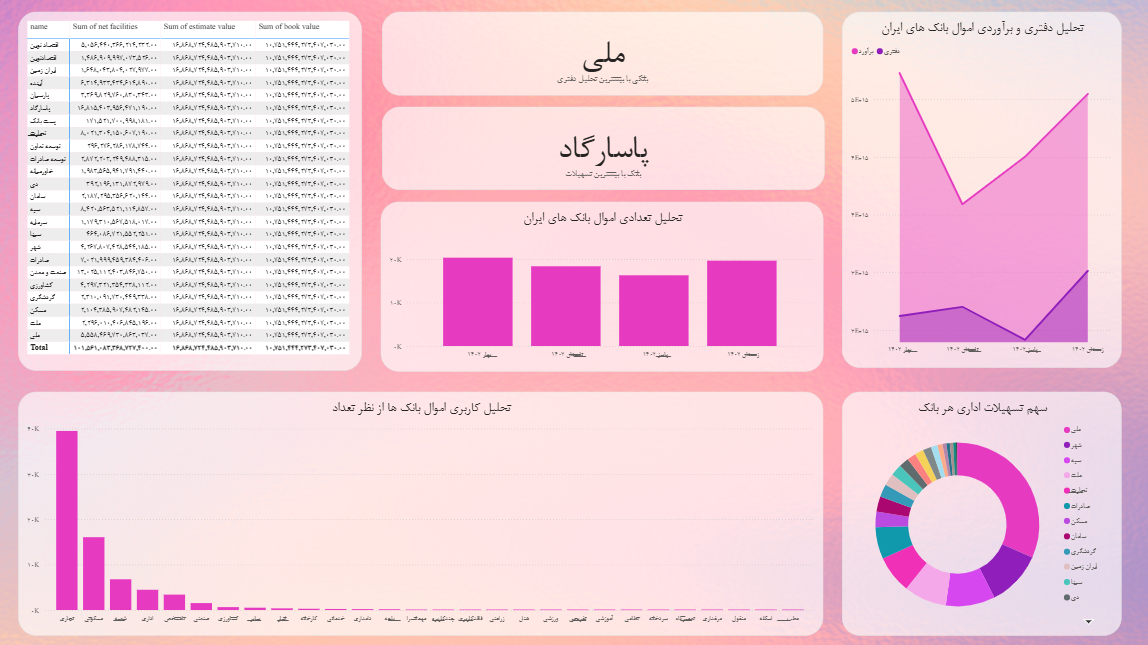

Layout of this report page (visuals, bound fields, positions):
{"tool":"powerbi","page":{"name":"comparison","canvas":[1920,1080],"ordinal":2},"visuals":[{"type":"areaChart","title":"تحلیل دفتری و برآوردی اموال بانک های ایران","fields":{"Y":["Sum(اموال بانک ها.estimate value)","Sum(اموال بانک ها.book value)"],"Category":["prd_helper.name_prd"]},"box":[1405.8,23.3,465.1,591.8],"z":0},{"type":"lineStackedColumnComboChart","title":"تحلیل تعدادی اموال بانک های ایران","fields":{"Y":["CountNonNull(اموال بانک ها.name)"],"Category":["prd_helper.name_prd"]},"box":[637.3,338.7,736,282.7],"z":1000},{"type":"donutChart","title":"سهم تسهیلات اداری هر بانک ","fields":{"Category":["bank_property.name"],"Y":["Sum(bank_property.book value)"]},"box":[1405.8,653.8,465.1,405.7],"z":2000},{"type":"clusteredColumnChart","title":"تحلیل کاربری اموال بانک ها از نظر تعداد","fields":{"Y":["CountNonNull(اموال بانک ها.name)"],"Category":["اموال بانک ها.edited_user_status"]},"box":[36.2,653.8,1338.6,405.7],"z":3000},{"type":"pivotTable","fields":{"Rows":["asset.name"],"Values":["Sum(asset.net facilities)","Sum(bank_property.estimate value)","Sum(bank_property.book value)"]},"box":[36.2,23.3,571.1,596.9],"z":4000},{"type":"card","fields":{"Values":["my_measure.Top Bank by Loan Amount"]},"box":[640.9,23.3,733.9,139.5],"z":5000},{"type":"card","fields":{"Values":["my_measure.Top Bank by asset"]},"box":[640,181.3,736,138.7],"z":6000}]}

Visuals, with their boxes in screenshot pixels (x1, y1, x2, y2), scaled from the page's 1920x1080 canvas onto the 1148x645 screenshot:
"تحلیل دفتری و برآوردی اموال بانک های ایران" areaChart: locate(841, 14, 1119, 367)
"تحلیل تعدادی اموال بانک های ایران" lineStackedColumnComboChart: locate(381, 202, 821, 371)
"سهم تسهیلات اداری هر بانک " donutChart: locate(841, 390, 1119, 633)
"تحلیل کاربری اموال بانک ها از نظر تعداد" clusteredColumnChart: locate(22, 390, 822, 633)
pivotTable - asset.name x Sum(asset.net facilities): locate(22, 14, 363, 370)
card - my_measure.Top Bank by Loan Amount: locate(383, 14, 822, 97)
card - my_measure.Top Bank by asset: locate(383, 108, 823, 191)
